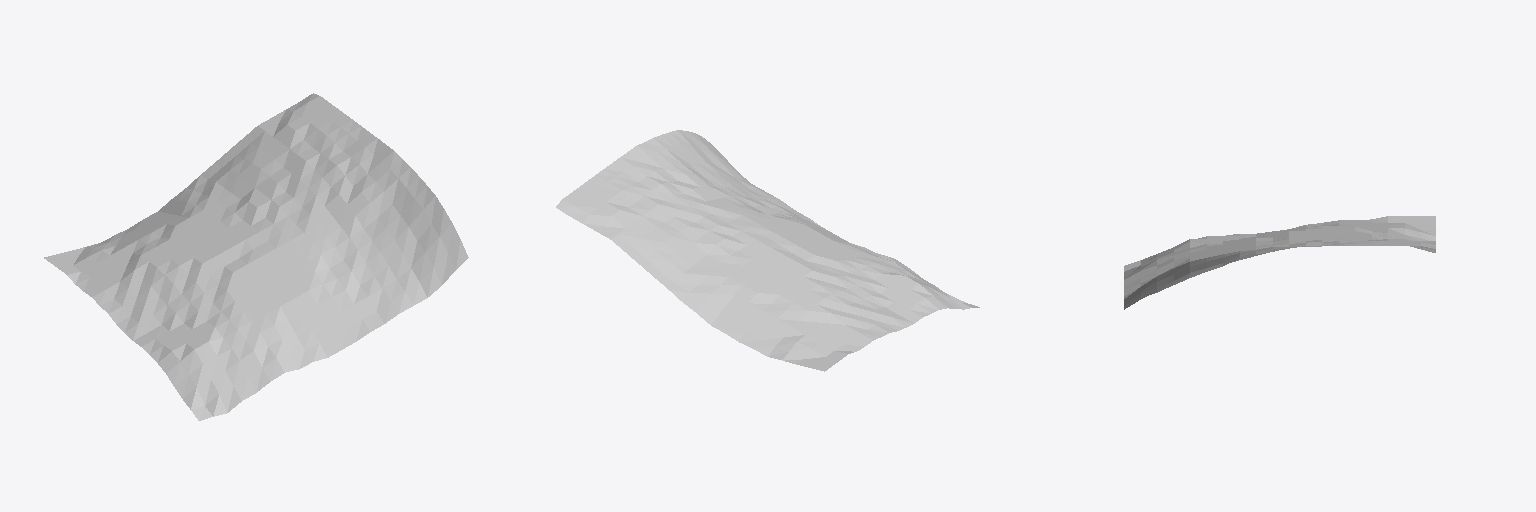
The model's file is terrain_27_-28.obj.
The picture shows the model from 3 angles: view 1: azimuth 30°, elevation 25°; view 2: azimuth 150°, elevation 25°; view 3: azimuth 270°, elevation 25°; orthographic projection.
Visible parts, largest first — view 1: terrain_27_-28_Plane.011; view 2: terrain_27_-28_Plane.011; view 3: terrain_27_-28_Plane.011.
Part boxes in pixels (x1,y1,x2,y2): terrain_27_-28_Plane.011: (44, 93, 468, 420); terrain_27_-28_Plane.011: (556, 130, 979, 371); terrain_27_-28_Plane.011: (1124, 216, 1435, 309).
Bounding box in the file's own units: 32 × 17.13 × 32.